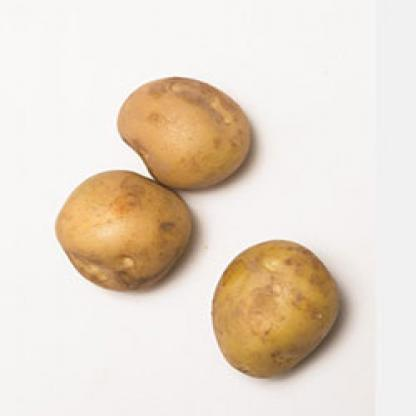potato: (188, 219, 361, 388), (40, 159, 203, 294), (108, 71, 258, 188)
